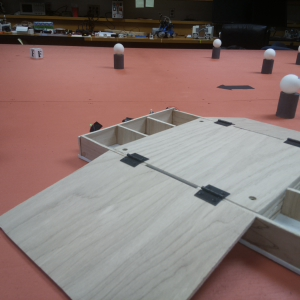obstacle: (276, 73, 299, 120), (111, 42, 127, 72), (261, 49, 275, 74), (211, 37, 224, 60)
slope: (1, 151, 258, 298), (205, 117, 300, 146)
